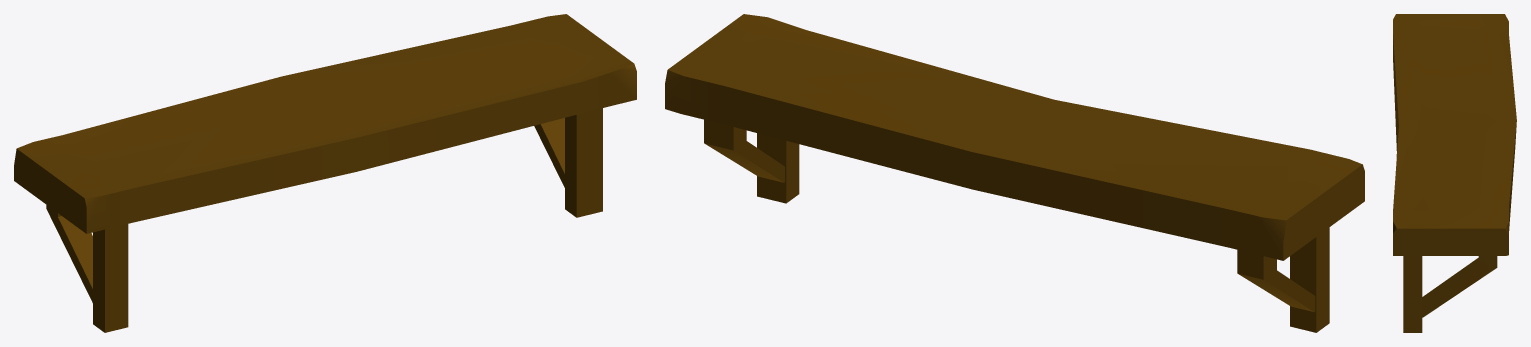
Rendered from shelf.fbx.
The picture shows the model from 3 angles, left to right: view 1: azimuth 30°, elevation 25°; view 2: azimuth 150°, elevation 25°; view 3: azimuth 270°, elevation 25°; orthographic projection. The views are drawn at different scales.
Visible parts, largest first — view 1: Wooden_Shelf; view 2: Wooden_Shelf; view 3: Wooden_Shelf.
Part boxes in pixels (x1=…): Wooden_Shelf: x1=14, y1=14, x2=636, y2=332; Wooden_Shelf: x1=665, y1=14, x2=1364, y2=332; Wooden_Shelf: x1=1393, y1=14, x2=1516, y2=332.
Bounding box in the file's own units: 340 × 85.02 × 82.88.
